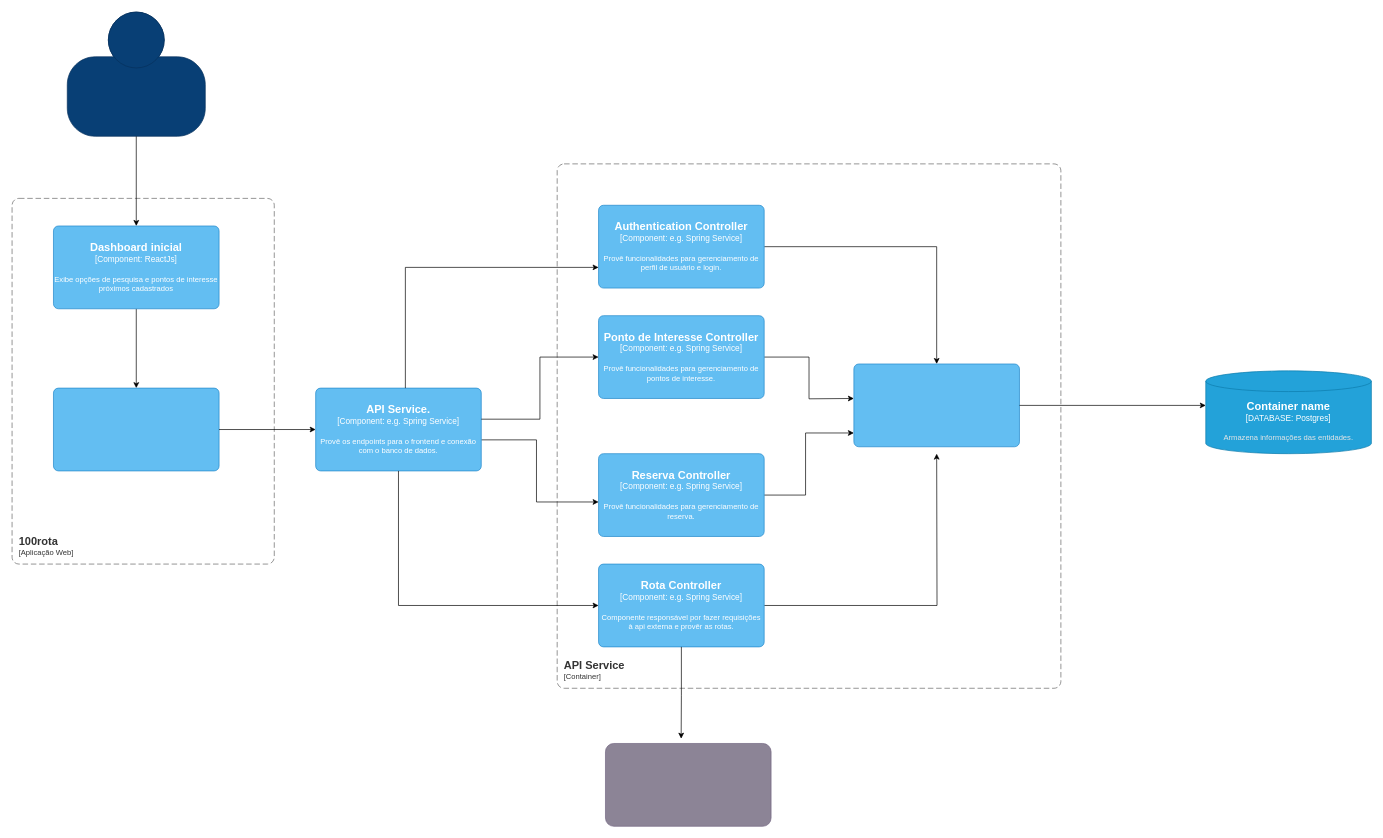
The diagram is 1383 pixels wide and 838 high, and some of its shapes have lost their labels. The centre of each missing label's shape, as x and y in pixels:
Entity Manager [Component: Spring JPA] Objeto de Modelo Relacional.: the point at 936,405
Gerenciamento da dashboard [Component: ReactJs] Gerenciamento da dashboard.: the point at 136,429
Google Maps API [Software System] Software responsável por prover rotas.: the point at 688,784
Viajante [Person] Pessoa que busca rotas ou ponto de interesse.: the point at 136,73
